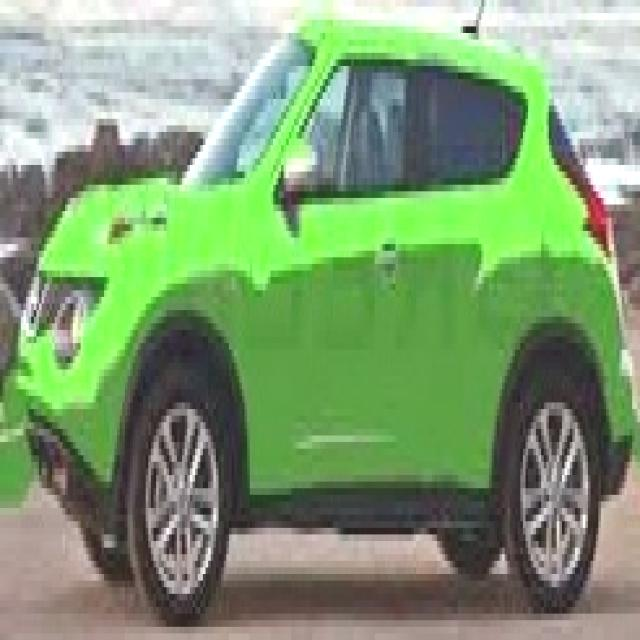green: (33, 3, 628, 621)
